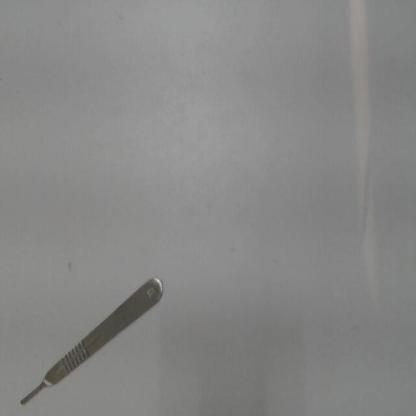No.3 BP Handle: (14, 268, 169, 412)
